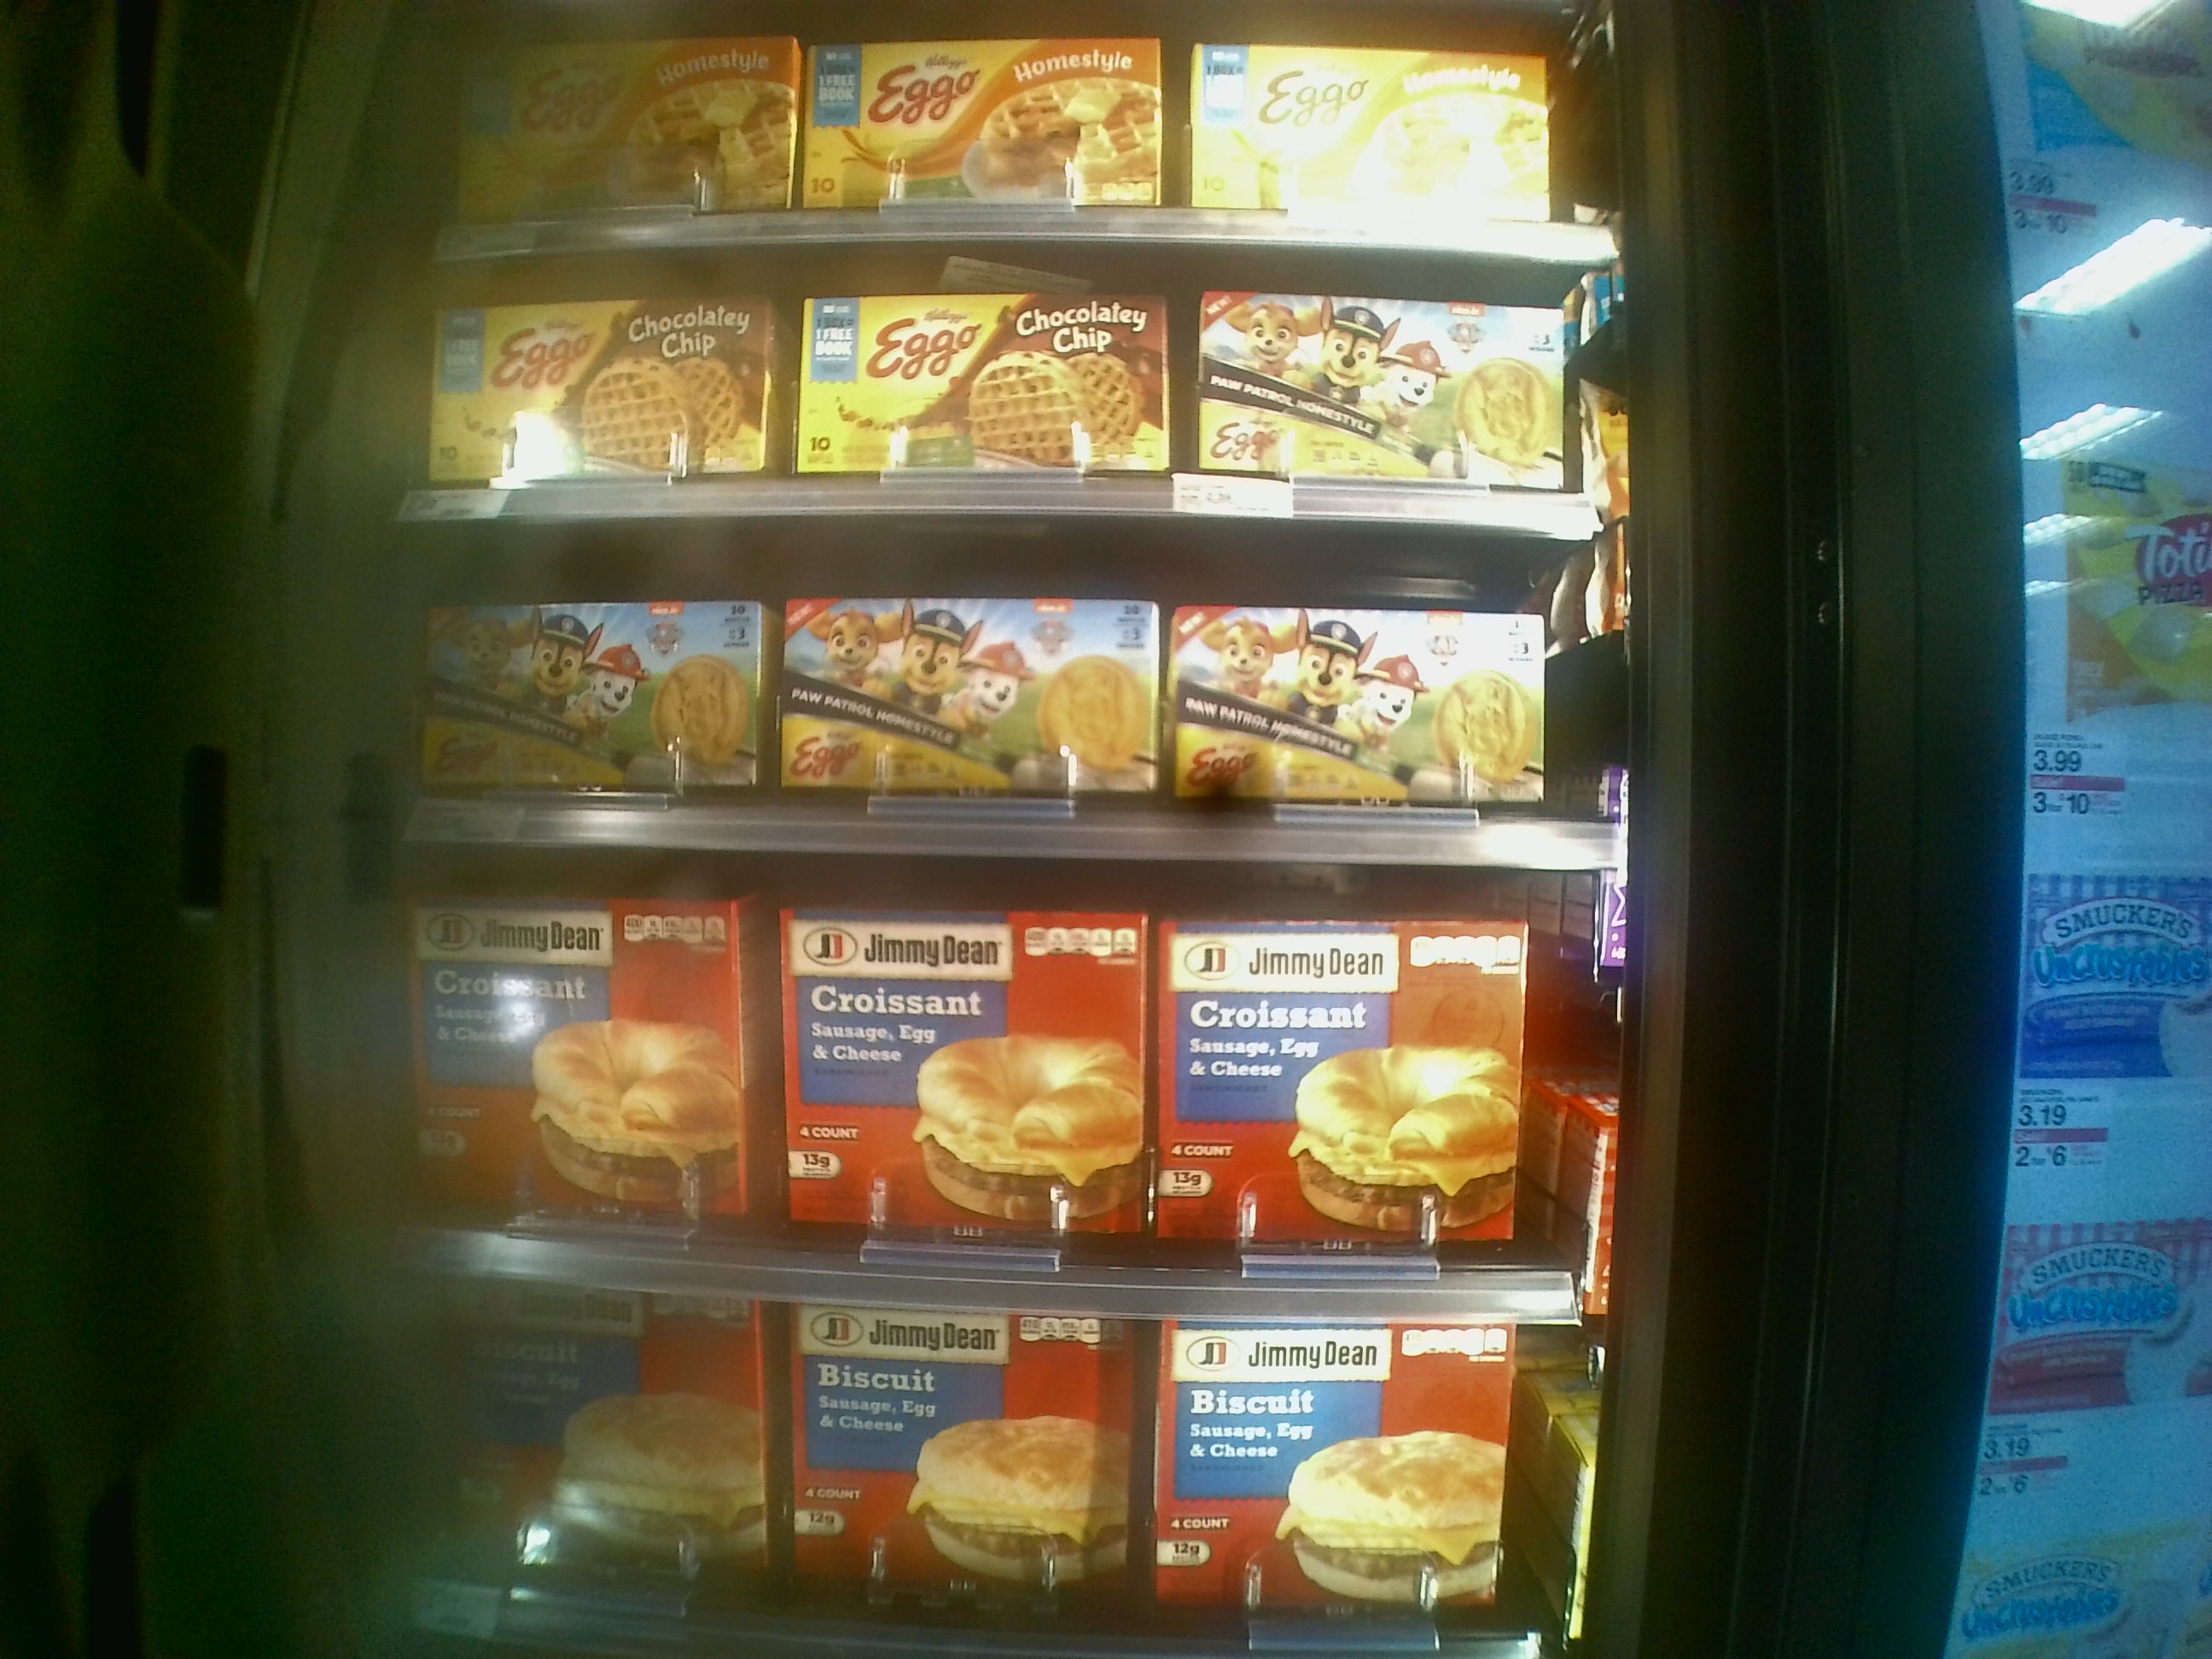shelf: (392, 831, 1590, 1321), (387, 512, 1609, 864)
